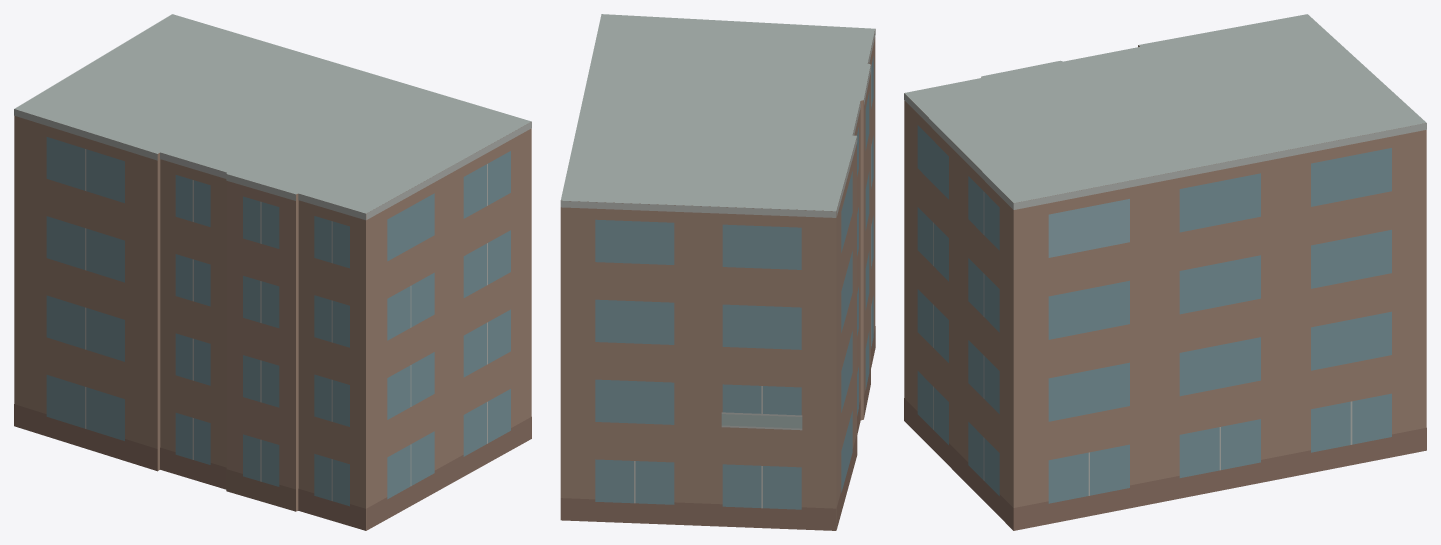
Rendered from survey-upis-32886780.glb.
The picture shows the model from 3 angles, left to right: view 1: azimuth 30°, elevation 25°; view 2: azimuth 150°, elevation 25°; view 3: azimuth 270°, elevation 25°; orthographic projection. The views are drawn at different scales.
Visible parts, largest first — view 1: survey-upis-32886780.tmp; view 2: survey-upis-32886780.tmp; view 3: survey-upis-32886780.tmp.
Boxes of the visible parts, bbox=[...] form: survey-upis-32886780.tmp: bbox=[14, 14, 531, 530]; survey-upis-32886780.tmp: bbox=[560, 14, 875, 530]; survey-upis-32886780.tmp: bbox=[904, 14, 1426, 530].
Size of the model in its own units: 14.38 by 11.6 by 16.78.
